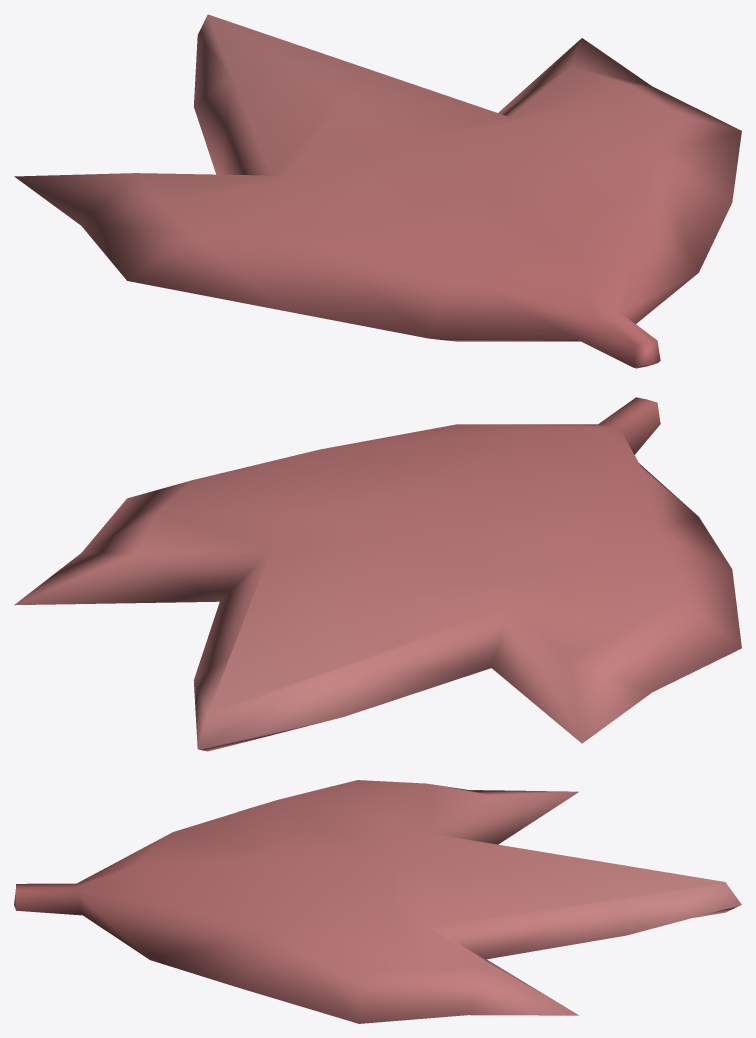
The model's file is M_TreeLeaf_07.fbx.
The picture shows the model from 3 angles, top to bottom: view 1: azimuth 30°, elevation 25°; view 2: azimuth 150°, elevation 25°; view 3: azimuth 270°, elevation 25°; orthographic projection. The views are drawn at different scales.
Parts seen in each view (by area): view 1: M_TreeLeaf_07; view 2: M_TreeLeaf_07; view 3: M_TreeLeaf_07.
Boxes of the visible parts, x1,y1,x2,y2 form: M_TreeLeaf_07: [14, 14, 741, 368]; M_TreeLeaf_07: [14, 397, 741, 751]; M_TreeLeaf_07: [14, 780, 741, 1023].
Bounding box in the file's own units: 64.33 × 9.62 × 81.63.
1 material, 1 textured.
